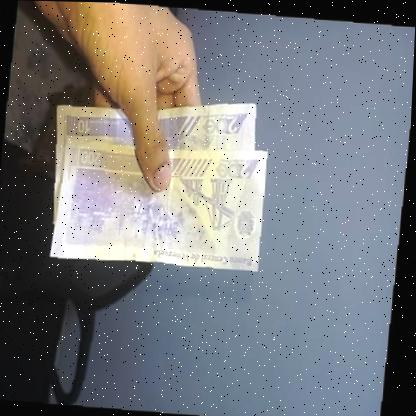two_hundred-back-vef: (50, 135, 271, 271)
